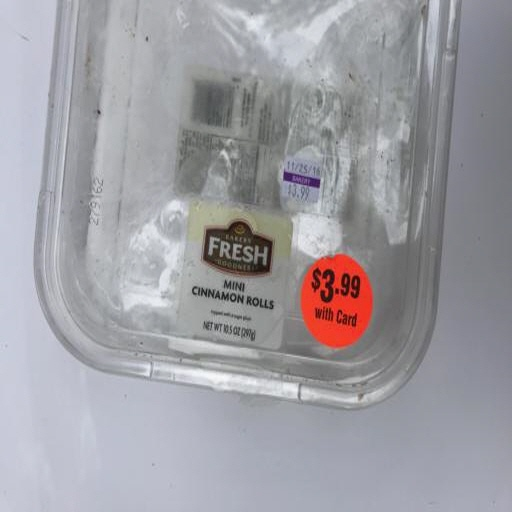Plastic_4: (37, 1, 462, 408)
